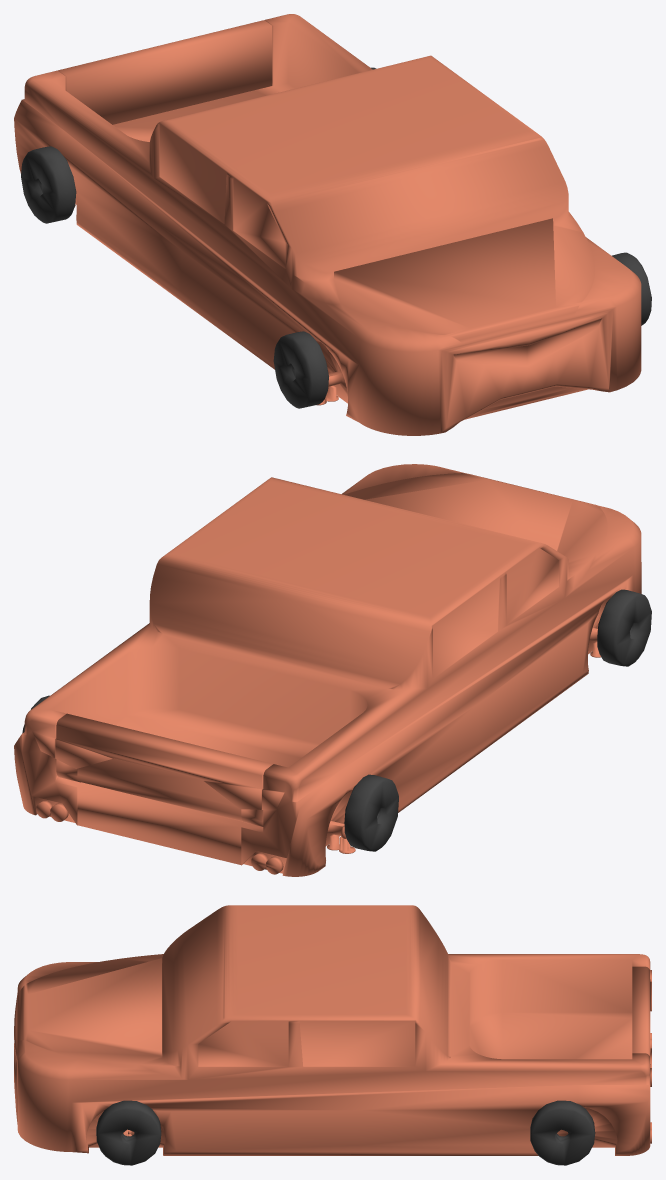
3 renders of one model, top to bottom at view 1: azimuth 30°, elevation 25°; view 2: azimuth 150°, elevation 25°; view 3: azimuth 270°, elevation 25°, orthographic. The views are drawn at different scales.
Parts seen in each view (by area): view 1: body, wheel.002, wheel, wheel.003; view 2: body, wheel, wheel.002; view 3: body, wheel.003, wheel.001.
Boxes of the visible parts, box(x1,y1,x2,y2) form: body: box(14, 14, 641, 435); wheel.002: box(273, 331, 328, 408); wheel: box(21, 146, 76, 223); wheel.003: box(612, 252, 651, 325); body: box(14, 464, 641, 876); wheel: box(344, 774, 398, 851); wheel.002: box(597, 589, 651, 666); body: box(14, 905, 651, 1155); wheel.003: box(96, 1100, 161, 1165); wheel.001: box(530, 1100, 595, 1165).
Bounding box in the file's own units: 2.45 × 1.07 × 4.6.
